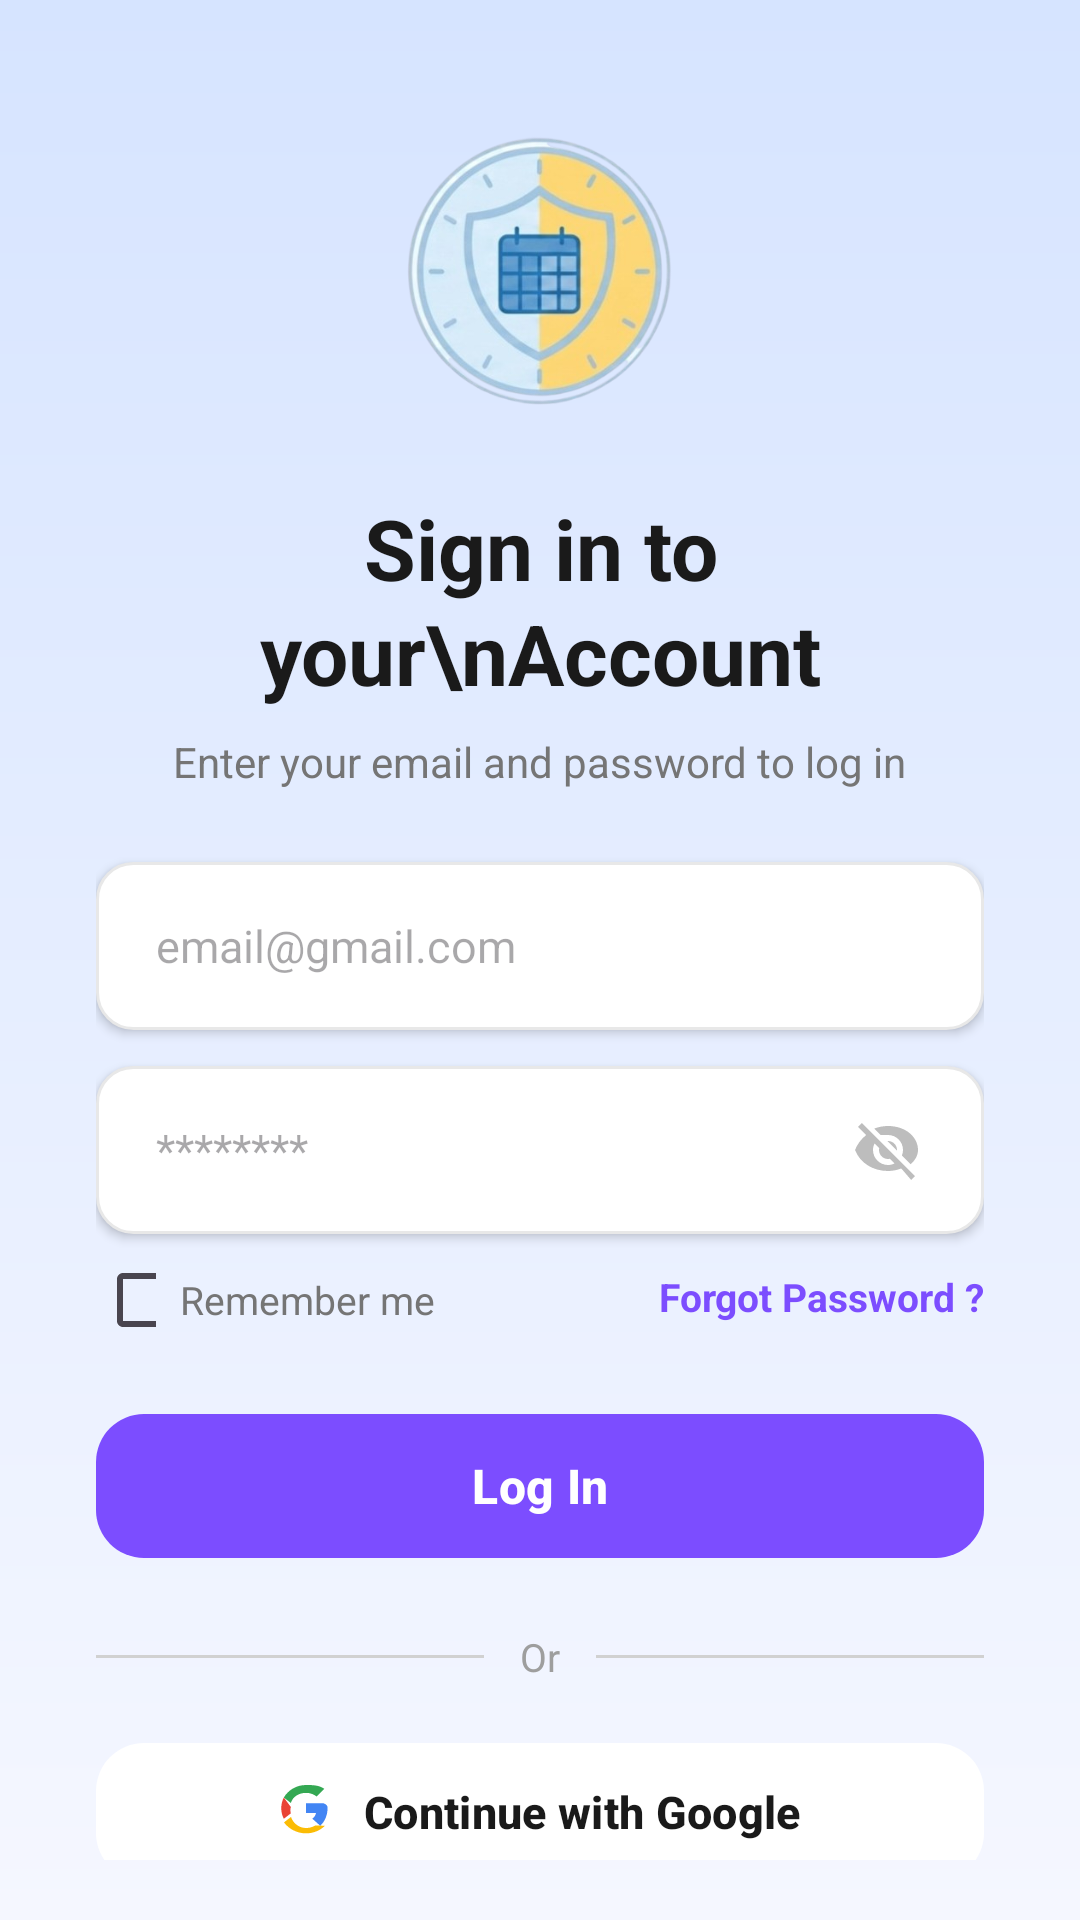

Screen size 1080px×1920px. Icon name, then its box in pixels as BBox(x1, y1, x2, y2):
visibility off: BBox(855, 1123, 918, 1180)
